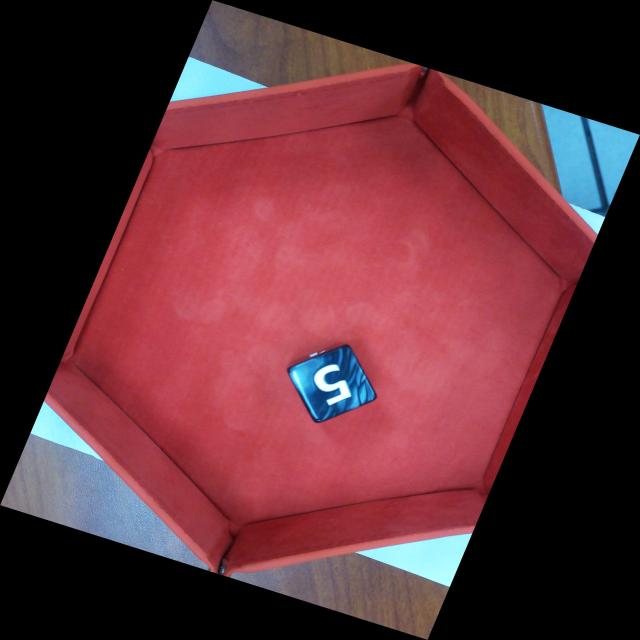dice: (285, 342, 377, 424)
